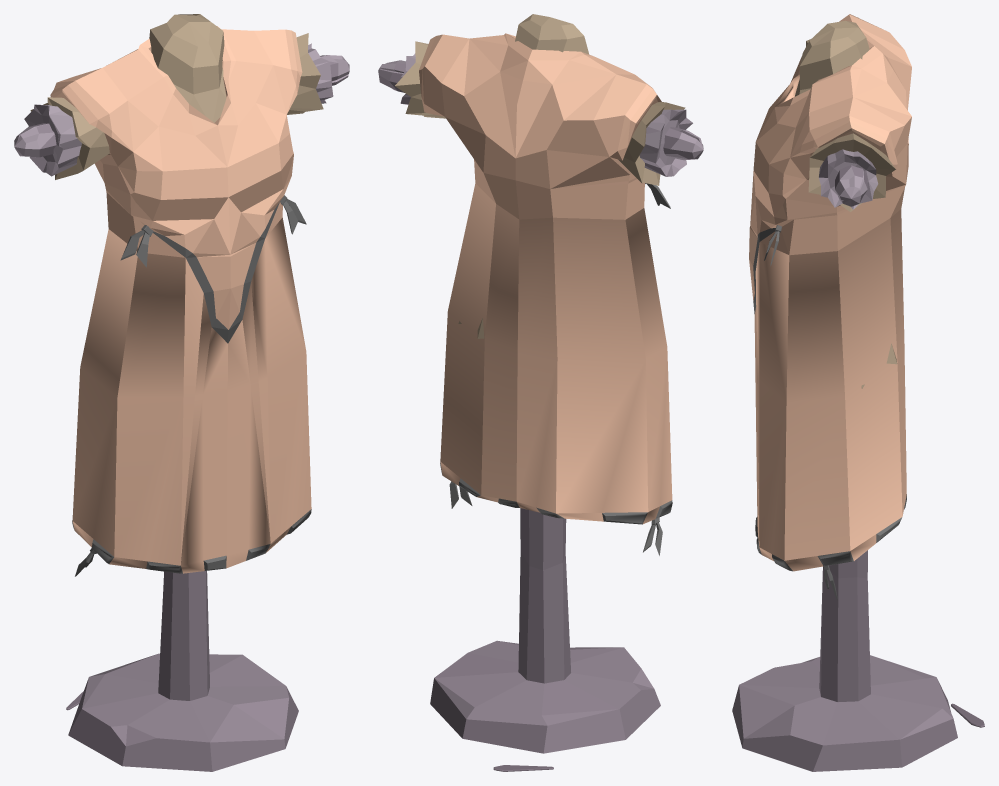
Rendered from Dress_Yellow.fbx.
3 views of the same model, side by side, from view 1: azimuth 30°, elevation 25°; view 2: azimuth 150°, elevation 25°; view 3: azimuth 270°, elevation 25° (orthographic). The views are drawn at different scales.
Visible parts, largest first — view 1: Dress_Yellow; view 2: Dress_Yellow; view 3: Dress_Yellow.
Boxes of the visible parts, x1=… form: Dress_Yellow: x1=14, y1=14, x2=349, y2=771; Dress_Yellow: x1=378, y1=14, x2=703, y2=771; Dress_Yellow: x1=732, y1=14, x2=984, y2=771.
Bounding box in the file's own units: 0.7736 × 1.58 × 0.5109.
Materials: 1 (1 with a texture image).
